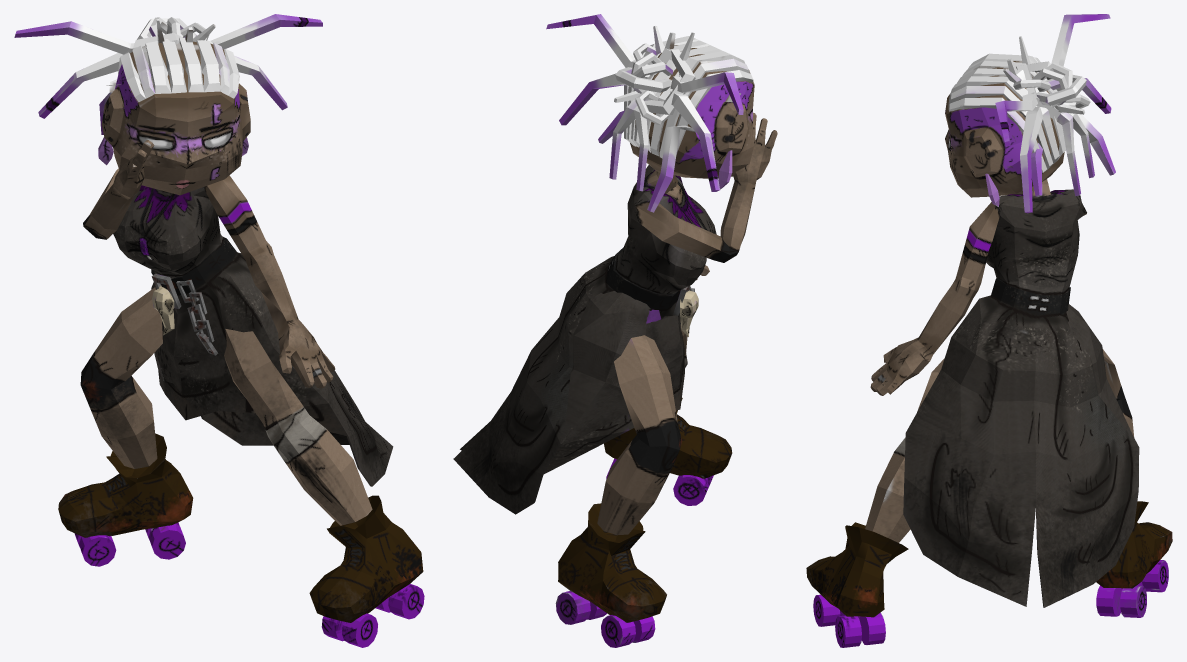
The model's file is bruja_000041.obj.
3 renders of one model, left to right at view 1: azimuth 30°, elevation 25°; view 2: azimuth 150°, elevation 25°; view 3: azimuth 270°, elevation 25°, orthographic. The views are drawn at different scales.
Parts seen in each view (by area): view 1: Bruja_Plane.001; view 2: Bruja_Plane.001; view 3: Bruja_Plane.001.
Part boxes in pixels (left/top/right/bottom): Bruja_Plane.001: left=14, top=14, right=424, bottom=647; Bruja_Plane.001: left=453, top=14, right=777, bottom=647; Bruja_Plane.001: left=806, top=14, right=1172, bottom=647.
Size of the model in its own units: 9.26 by 15.44 by 9.24.
